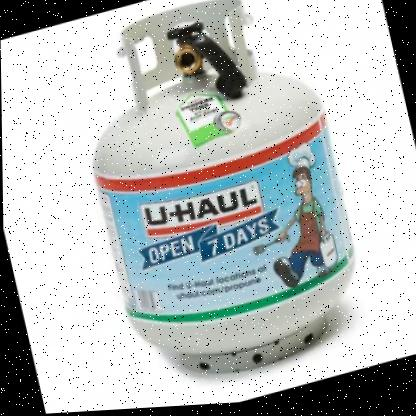gas-tank: (26, 0, 393, 414)
